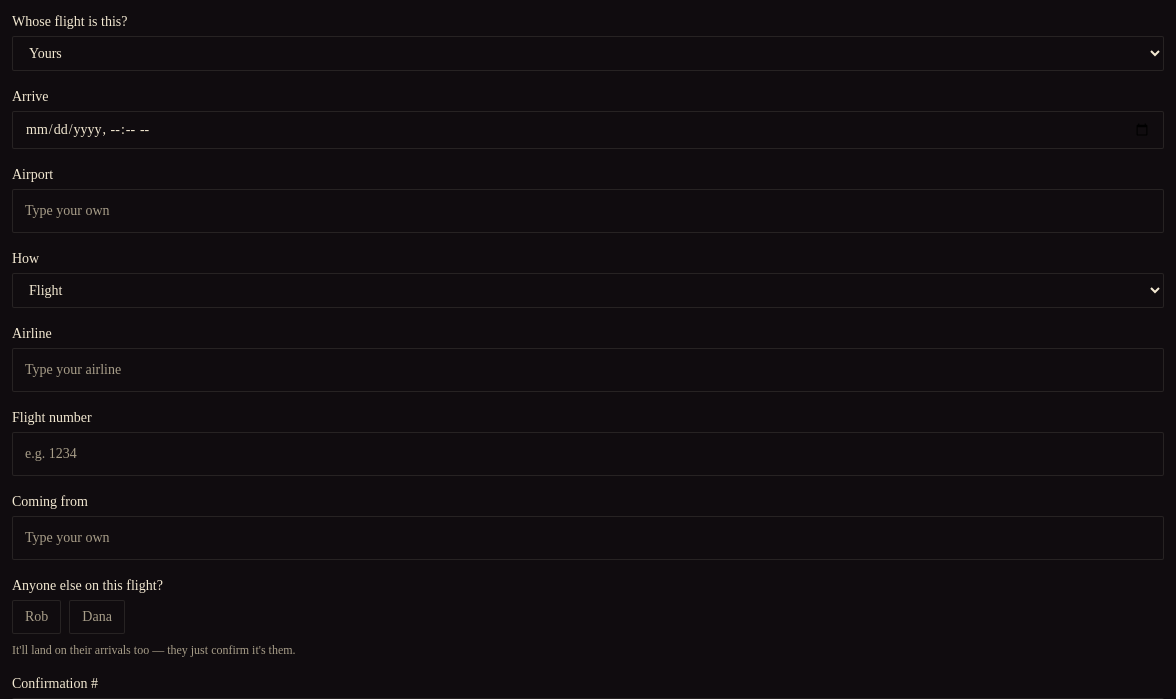
Scenario: TravelLegForm — co-traveler tagging (#574) › hides the picker for a non-flight kind
The image size is (1176, 699).
Select "Drive" in the dropdown labelled "How" at {"x": 588, "y": 290}, box [12, 273, 1164, 308]
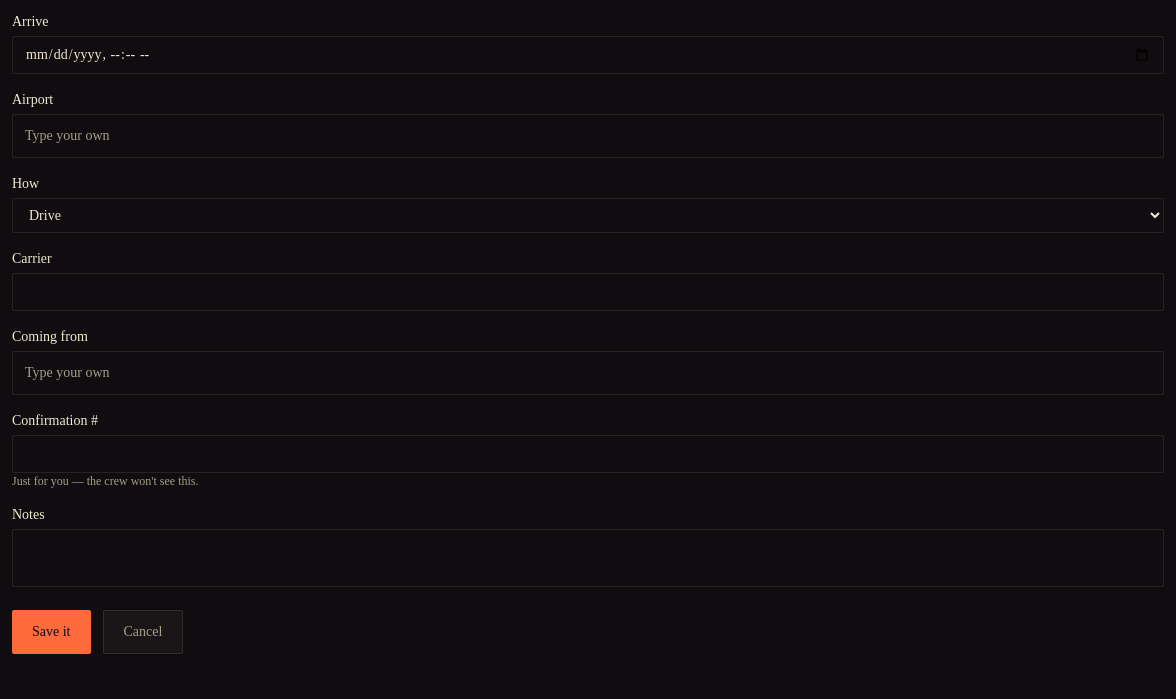
Now the text "Anyone else on this flight?" is gone
